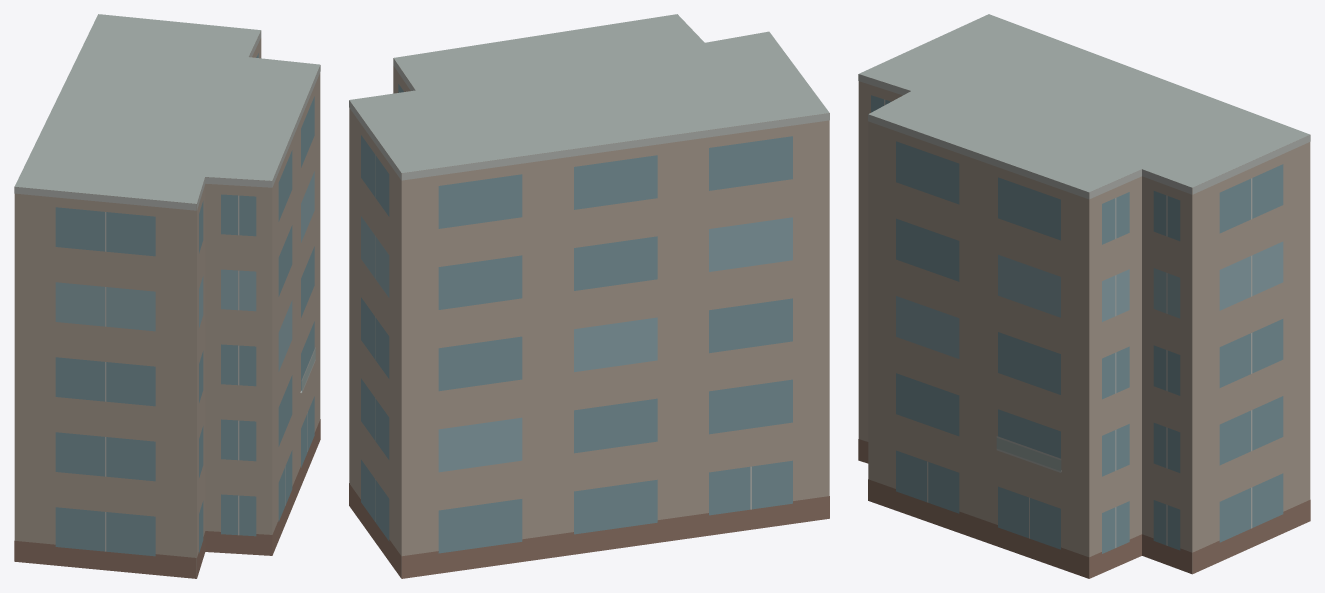
The model's file is survey-upis-32525894.glb.
3 views of the same model, side by side, from view 1: azimuth 30°, elevation 25°; view 2: azimuth 150°, elevation 25°; view 3: azimuth 270°, elevation 25° (orthographic). The views are drawn at different scales.
Visible parts, largest first — view 1: survey-upis-32525894.tmp; view 2: survey-upis-32525894.tmp; view 3: survey-upis-32525894.tmp.
Boxes of the visible parts, bbox=[...] form: survey-upis-32525894.tmp: bbox=[14, 14, 320, 578]; survey-upis-32525894.tmp: bbox=[349, 14, 829, 578]; survey-upis-32525894.tmp: bbox=[858, 14, 1310, 578].
Size of the model in its own units: 13.22 by 13.35 by 14.16.
